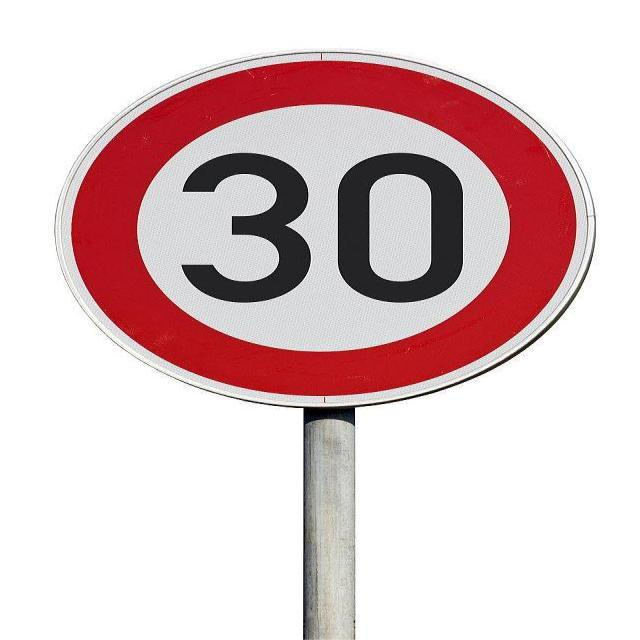speed limit 30: (53, 45, 598, 407)
